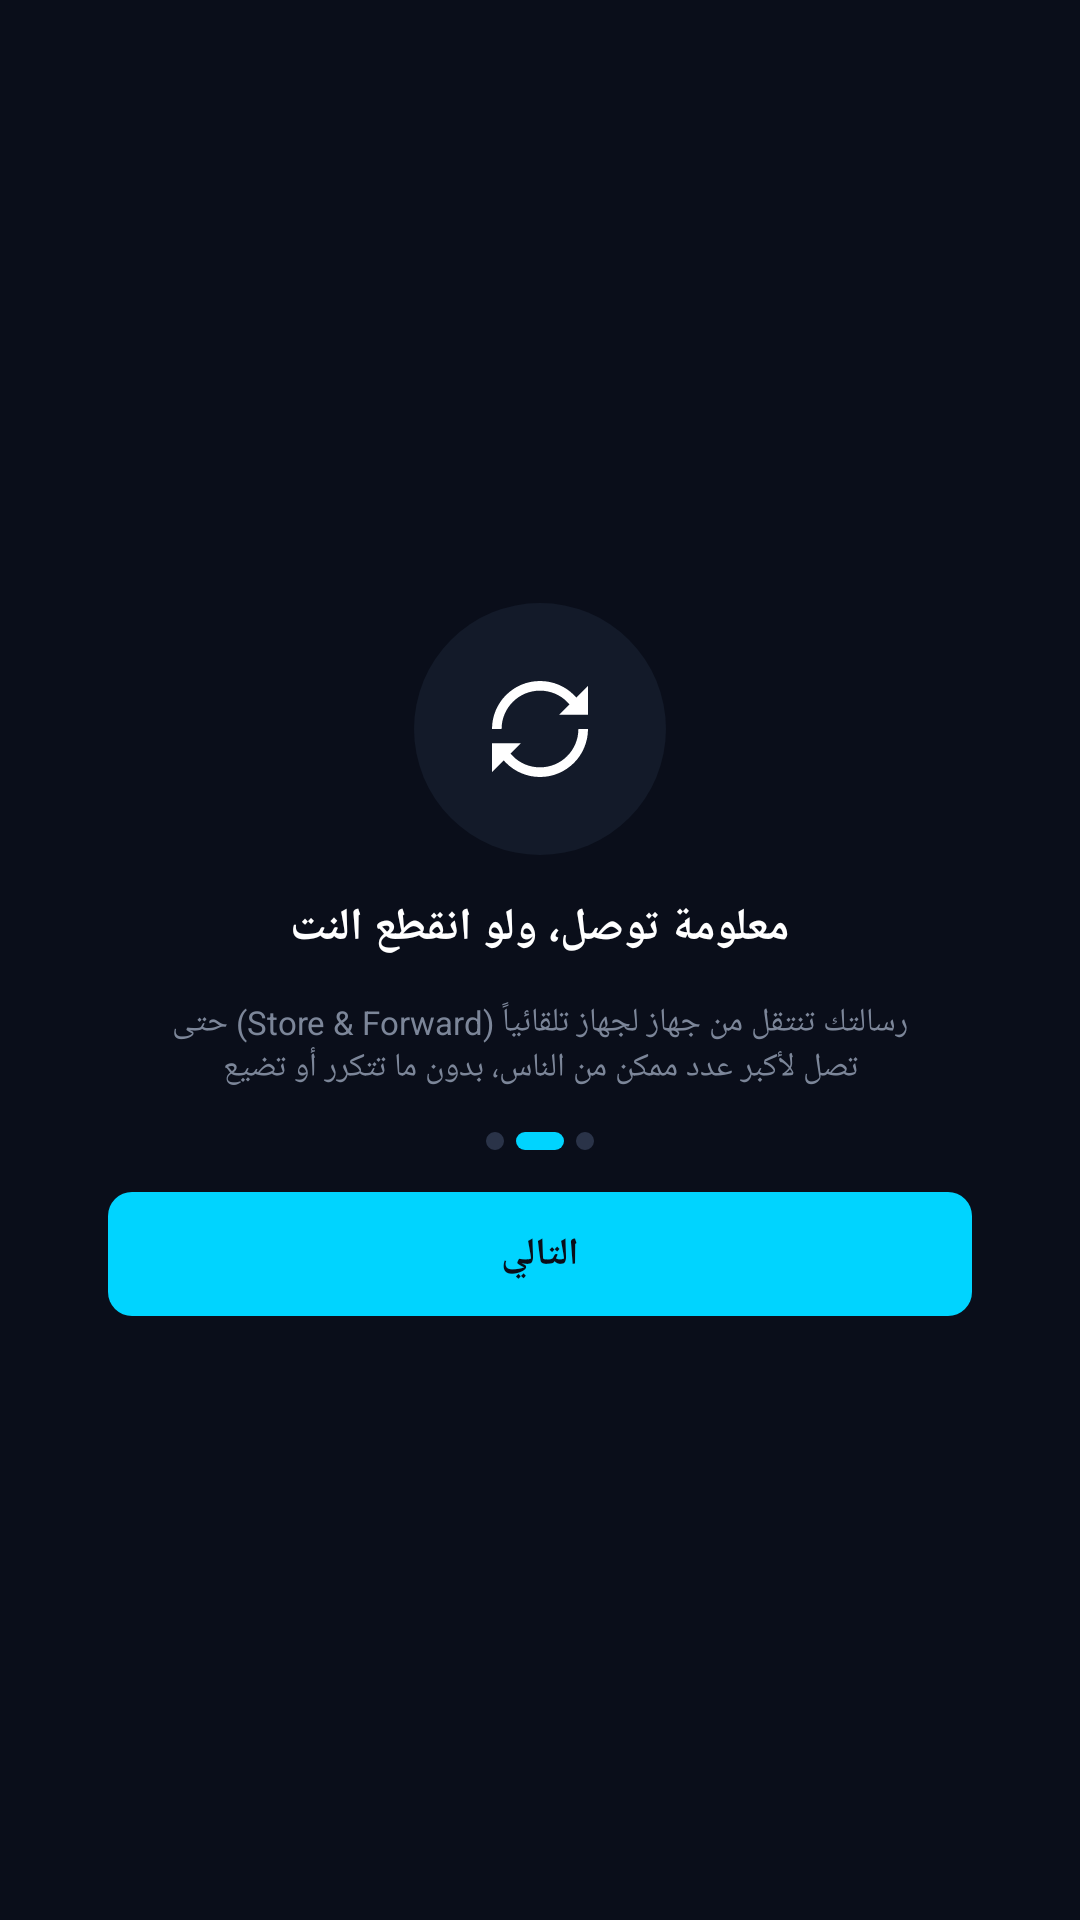

Icons on this 1080x1920 Android screen, each with its box as detection(x1, y1, x2, y2):
refresh: detection(492, 681, 588, 777)
